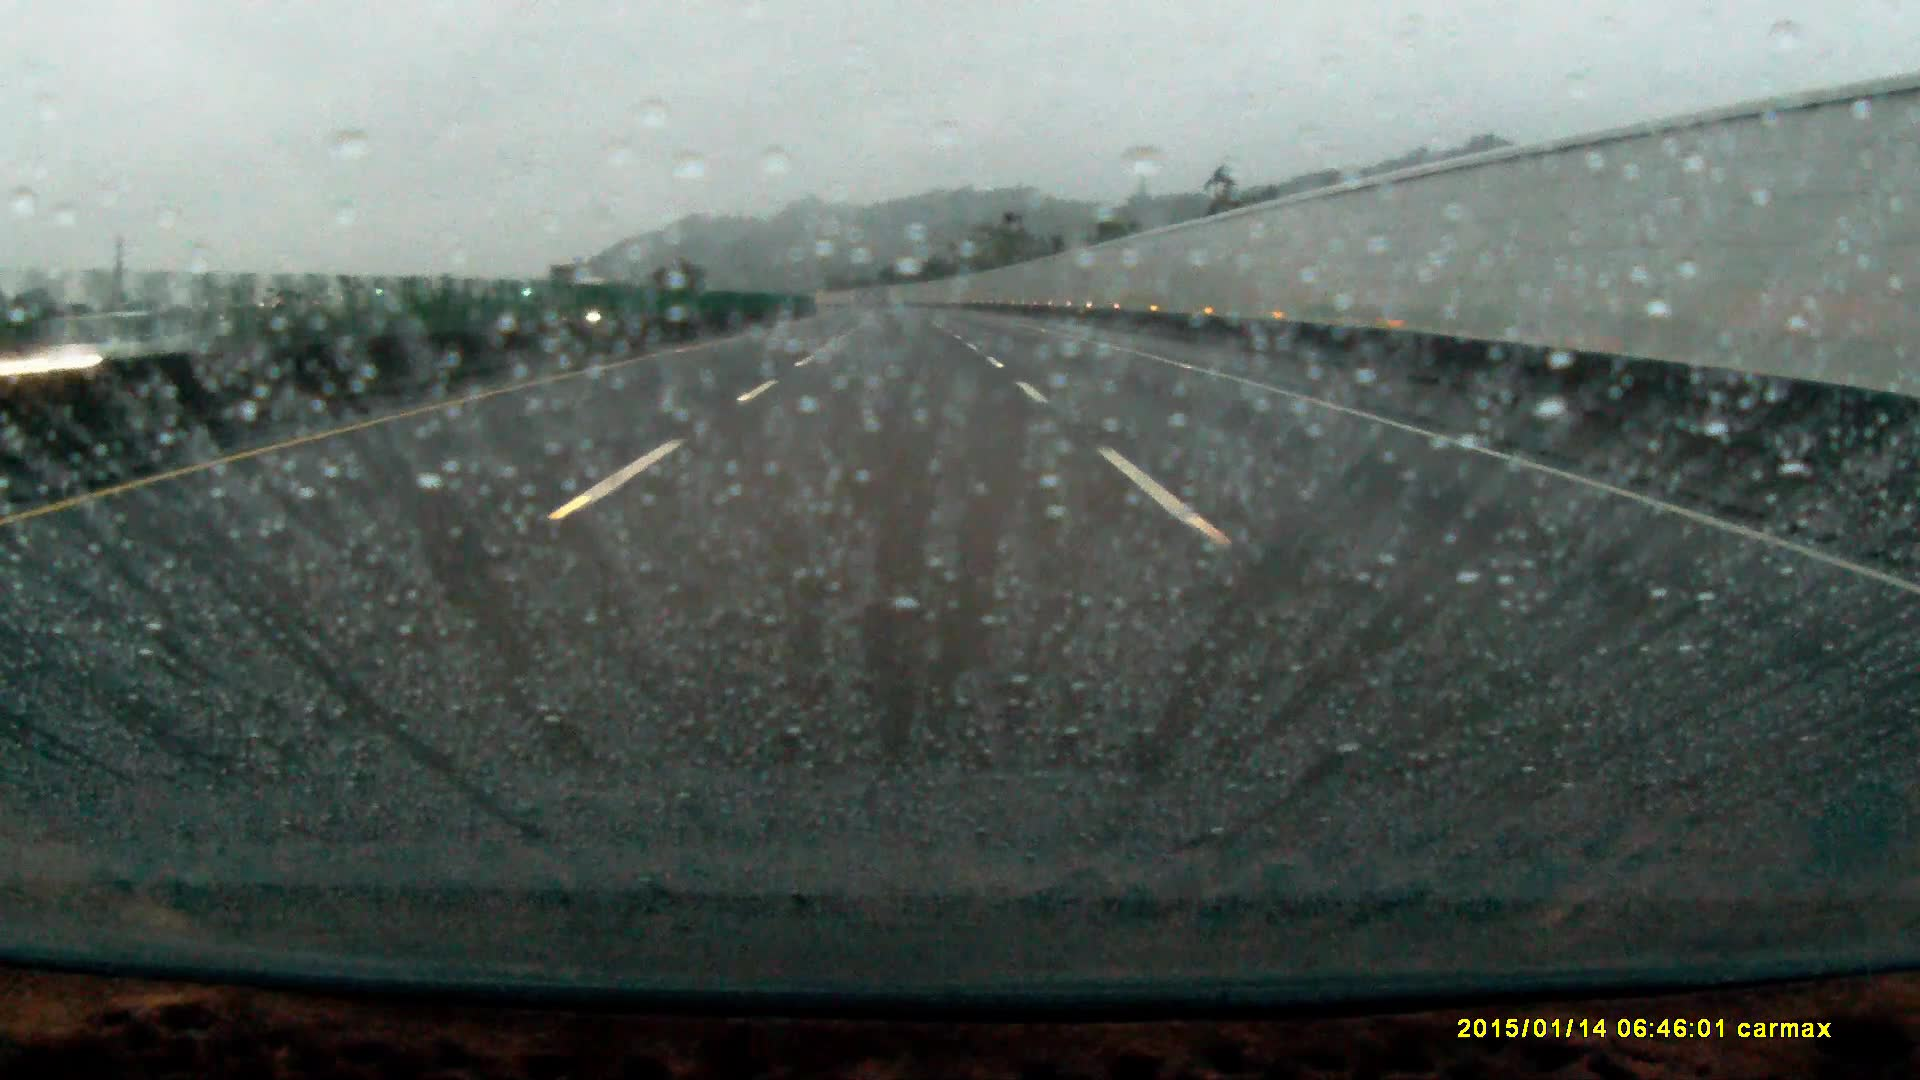vehicle: (11, 305, 198, 419), (554, 301, 629, 334)
